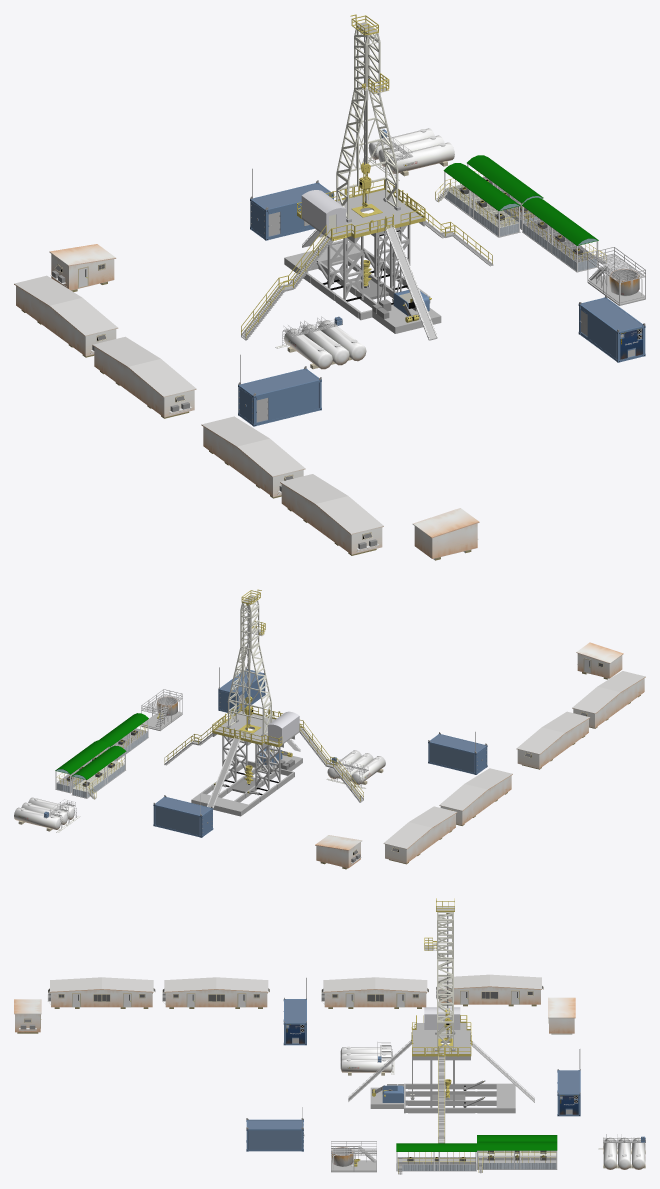
Rendered from towel.glb.
3 views of the same model, one above another, from view 1: azimuth 30°, elevation 25°; view 2: azimuth 150°, elevation 25°; view 3: azimuth 270°, elevation 25° (orthographic). The views are drawn at different scales.
Parts seen in each view (by area): view 1: EGS_DRILL_RIG_AU__SU_2017_.001; view 2: EGS_DRILL_RIG_AU__SU_2017_.001; view 3: EGS_DRILL_RIG_AU__SU_2017_.001.
Part boxes in pixels (x1,y1,x2,y2): EGS_DRILL_RIG_AU__SU_2017_.001: (14,14,645,560); EGS_DRILL_RIG_AU__SU_2017_.001: (14,589,645,869); EGS_DRILL_RIG_AU__SU_2017_.001: (14,898,645,1174).
Bounding box in the file's own units: 59.91 × 31.67 × 90.81.
Materials: 31 (9 with a texture image).
